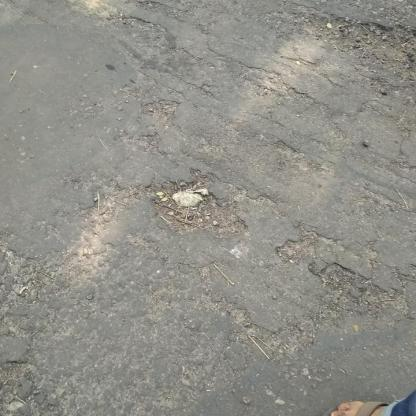pothole: (301, 16, 416, 82), (144, 177, 250, 243), (275, 229, 331, 259), (142, 98, 184, 129), (318, 262, 362, 291)
